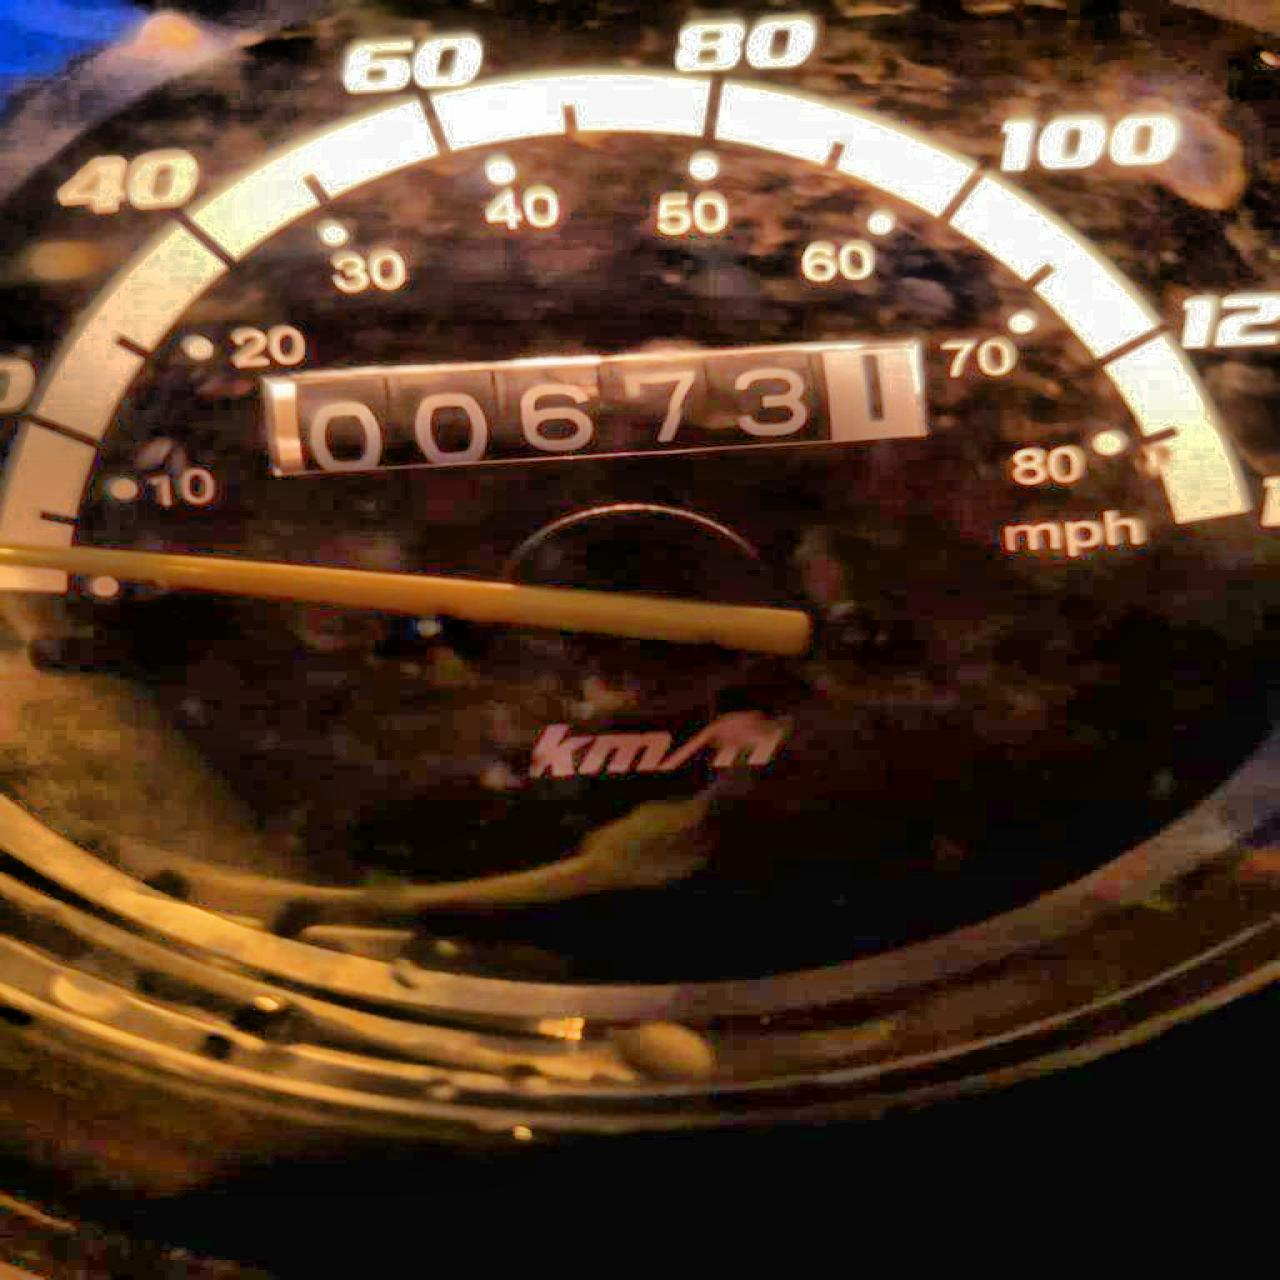0: (403, 389, 490, 465), (301, 396, 380, 470), (268, 329, 305, 365)
1: (852, 347, 896, 423)
2: (253, 331, 272, 368)
3: (730, 363, 812, 437)
6: (511, 380, 597, 452)
7: (613, 365, 696, 444)
odometer: (253, 328, 939, 482)
